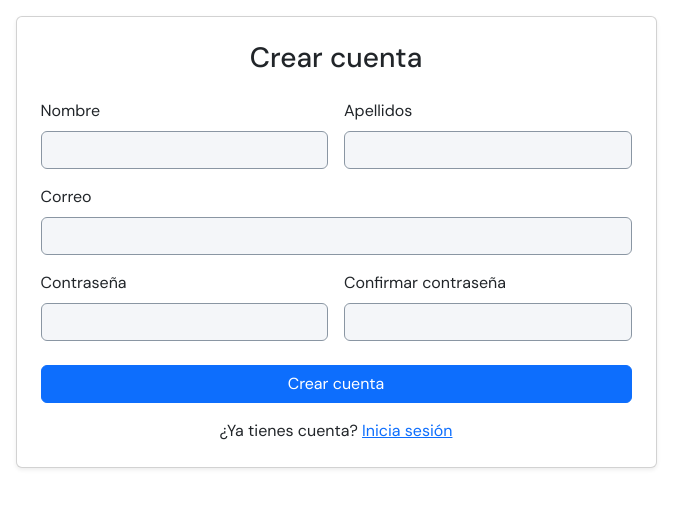
Scenario: Registro › avisa si las contraseñas no coinciden
Type "Ana" into the field labelled "Nombre". click: (184, 150)
box: top-left (40, 131), bottom-right (328, 169)
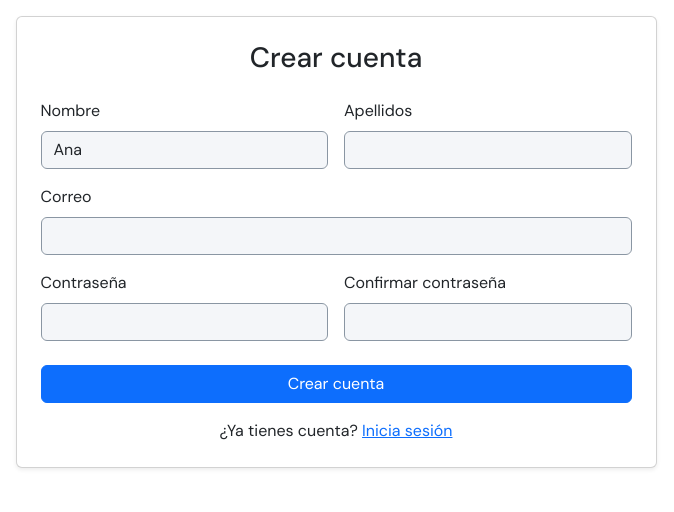
Type "Soto" into the field labelled "Apellidos". click: (488, 150)
box: top-left (344, 131), bottom-right (632, 169)
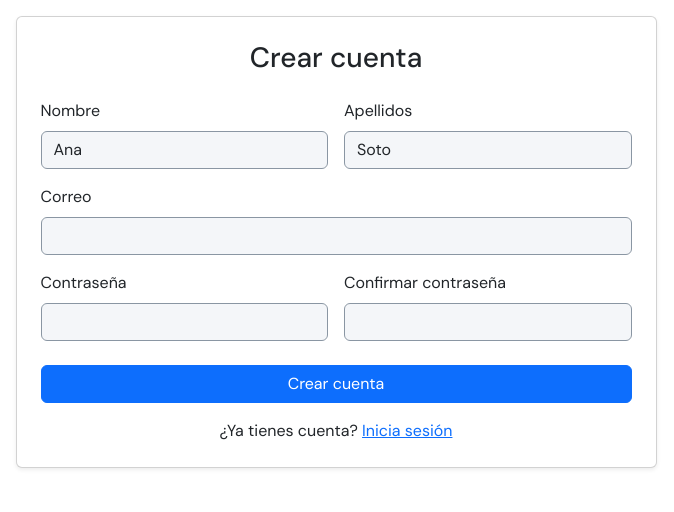
Type "ana@correo.cl" into the field labelled "Correo". click: (336, 236)
box: top-left (40, 217), bottom-right (632, 255)
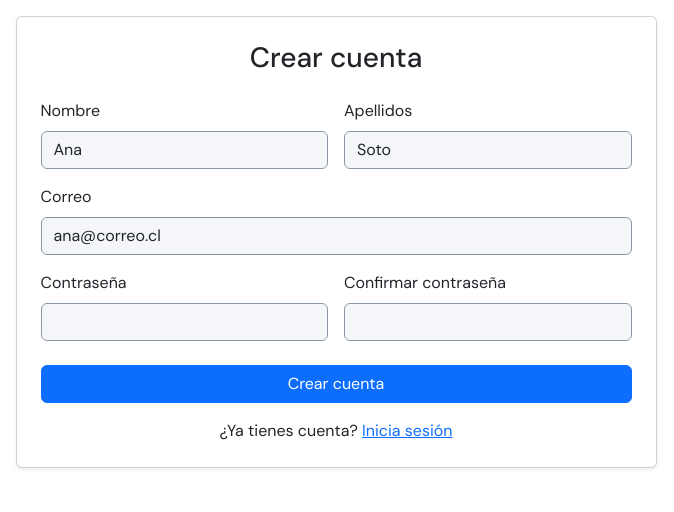
Type "ana12345" into the password field labelled "Contraseña". click: (184, 322)
box: top-left (40, 303), bottom-right (328, 341)
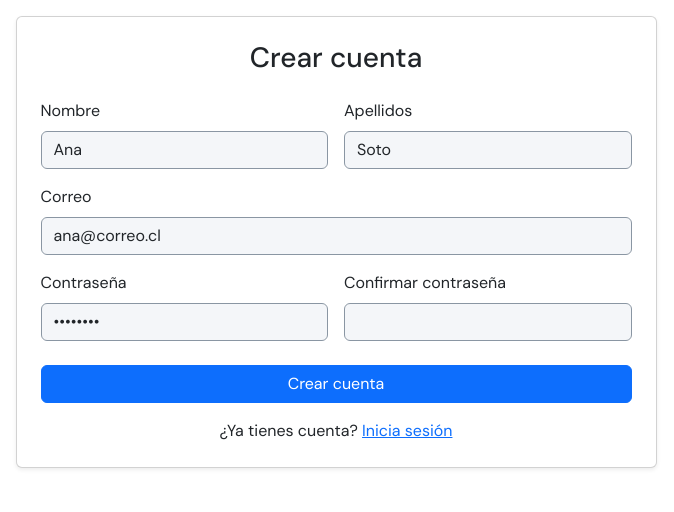
Type "otra123" into the password field labelled "Confirmar contraseña". click: (488, 322)
box: top-left (344, 303), bottom-right (632, 341)
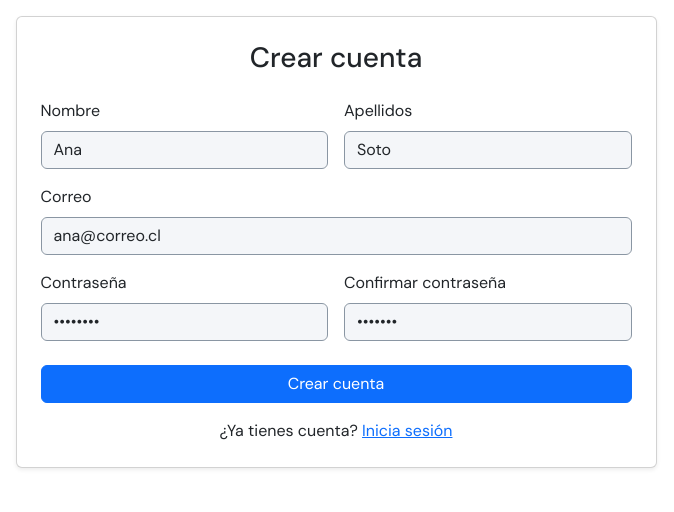
Click the button "Crear cuenta". click: (336, 384)
box: top-left (40, 365), bottom-right (632, 403)
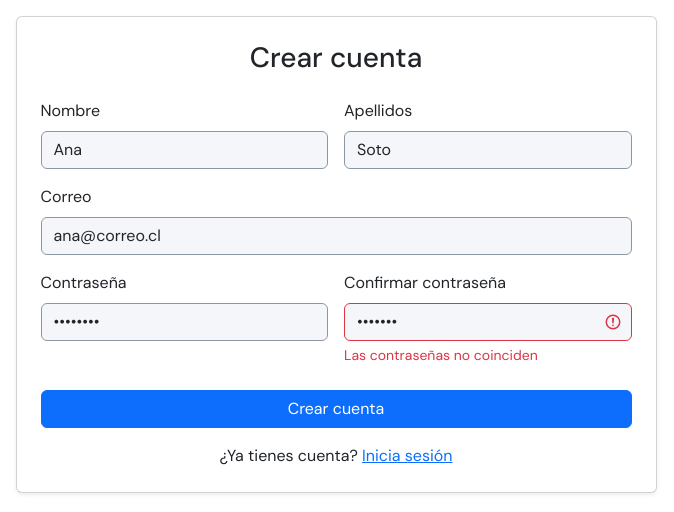
Check: the text "Las contraseñas no coinciden" is shown, box top-left (344, 346), bottom-right (538, 364)
